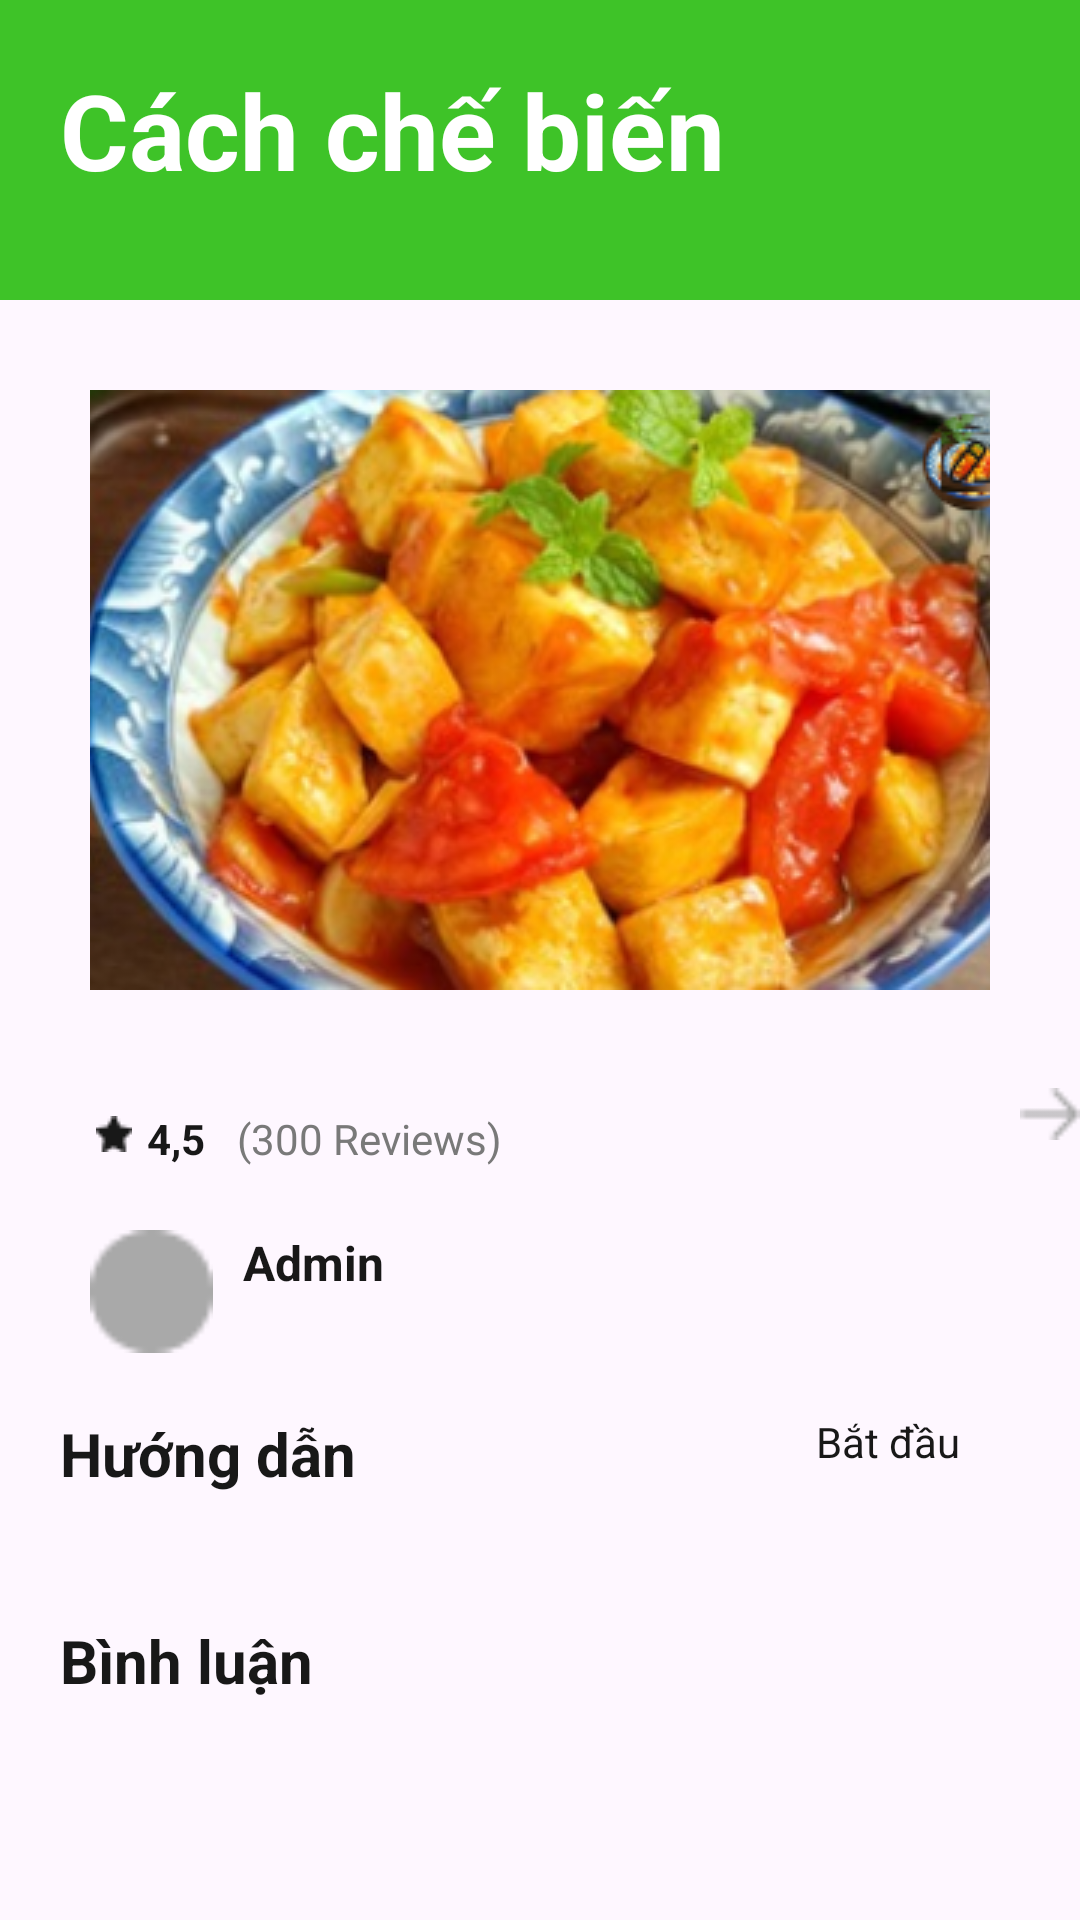

Point at icon controls on the screen. Image size 1080x1920, points as (x,y).
star: (114,1134)
